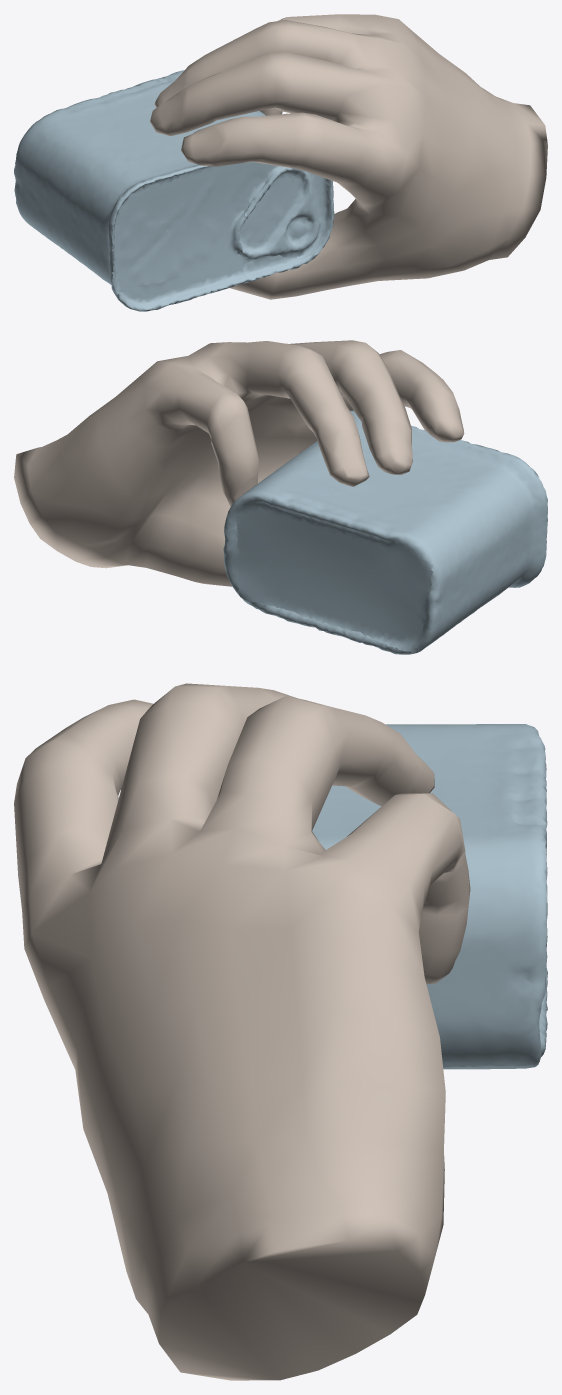
File: ours_meat_can.glb
The picture shows the model from 3 angles, top to bottom: view 1: azimuth 30°, elevation 25°; view 2: azimuth 150°, elevation 25°; view 3: azimuth 270°, elevation 25°; orthographic projection. The views are drawn at different scales.
Size of the model in its own units: 0.2146 by 0.1172 by 0.1117.
